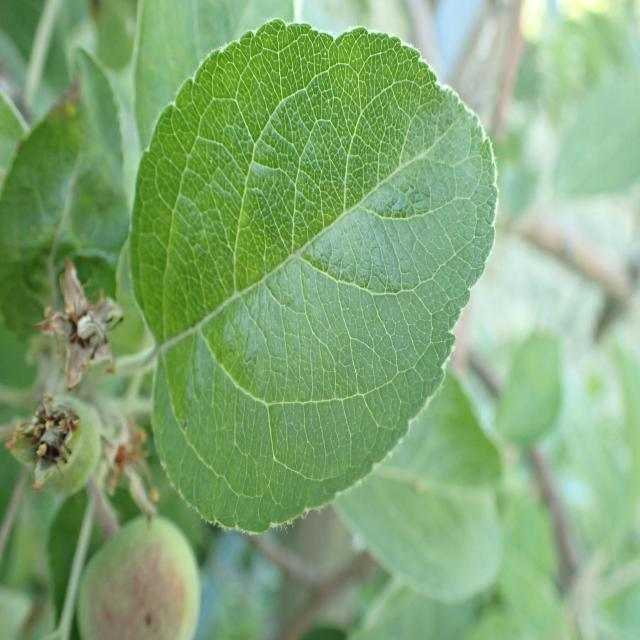healthy: (127, 19, 500, 535), (0, 43, 130, 339)
